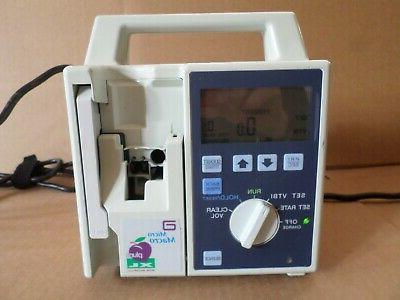plumxl1: (63, 16, 329, 279)
